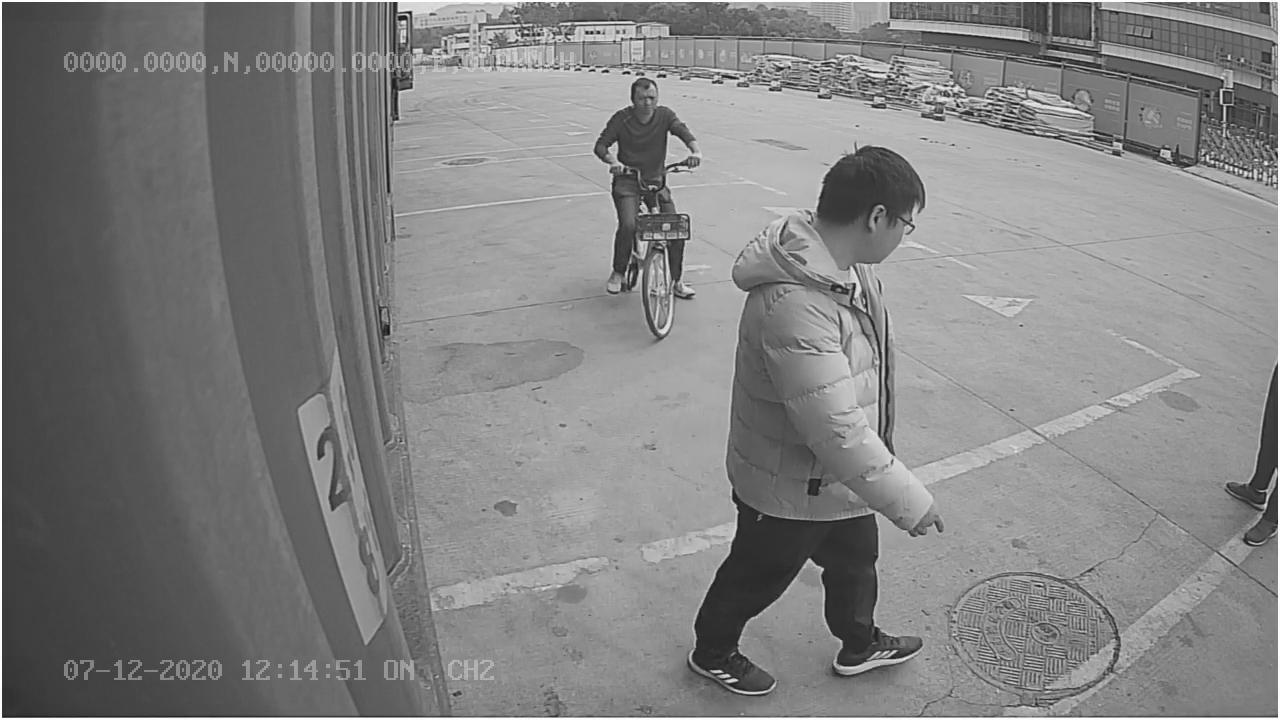person: (687, 139, 947, 697)
